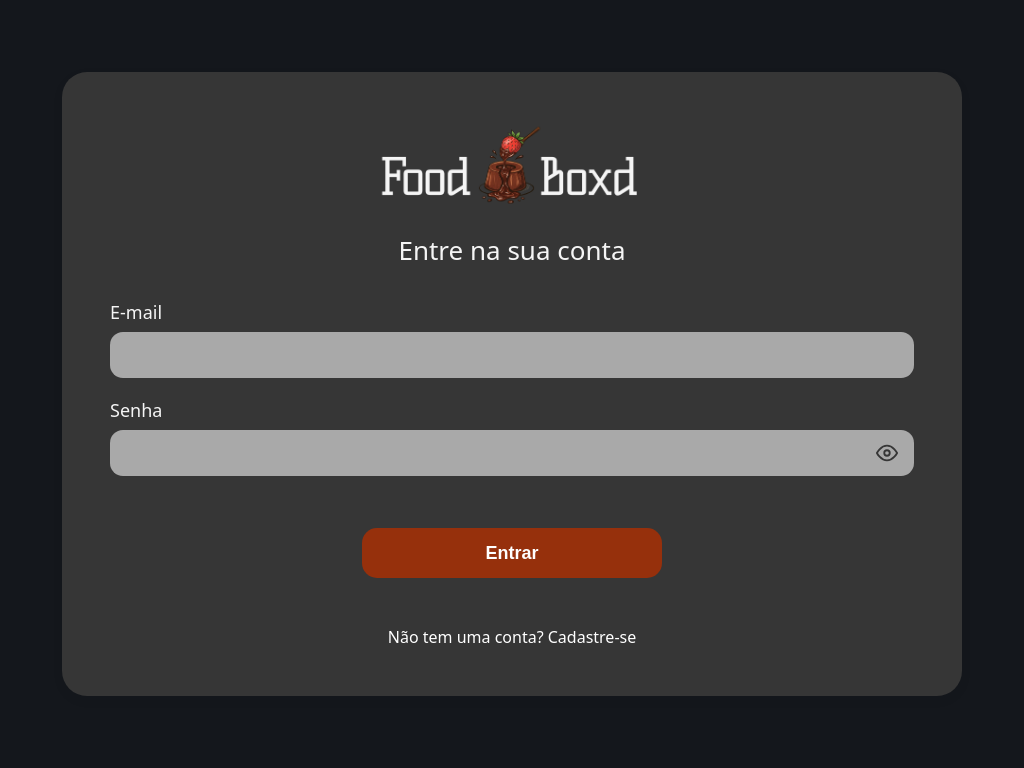
Scenario: LoginPage › deve mostrar erros de validação quando campos vazios
Click the button "Entrar": (512, 553) [362,528,662,578]
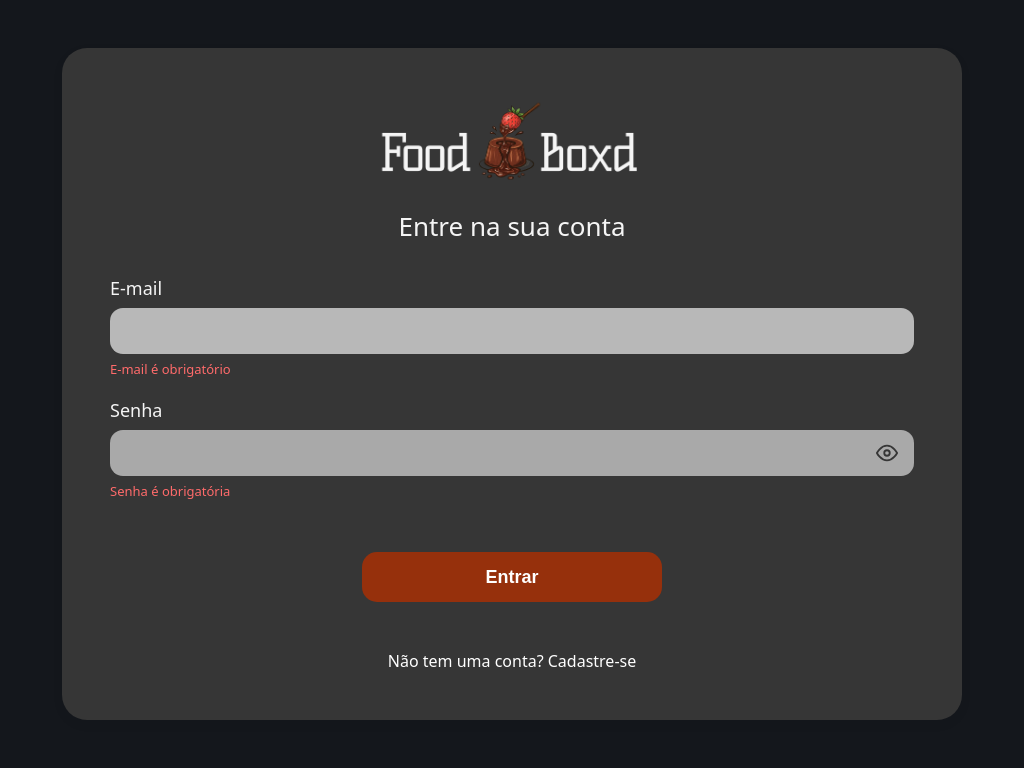
Expected: the text "E-mail é obrigatório" is shown, [110,360,231,378]
Expected: the text "Senha é obrigatória" is shown, [110,482,230,500]
